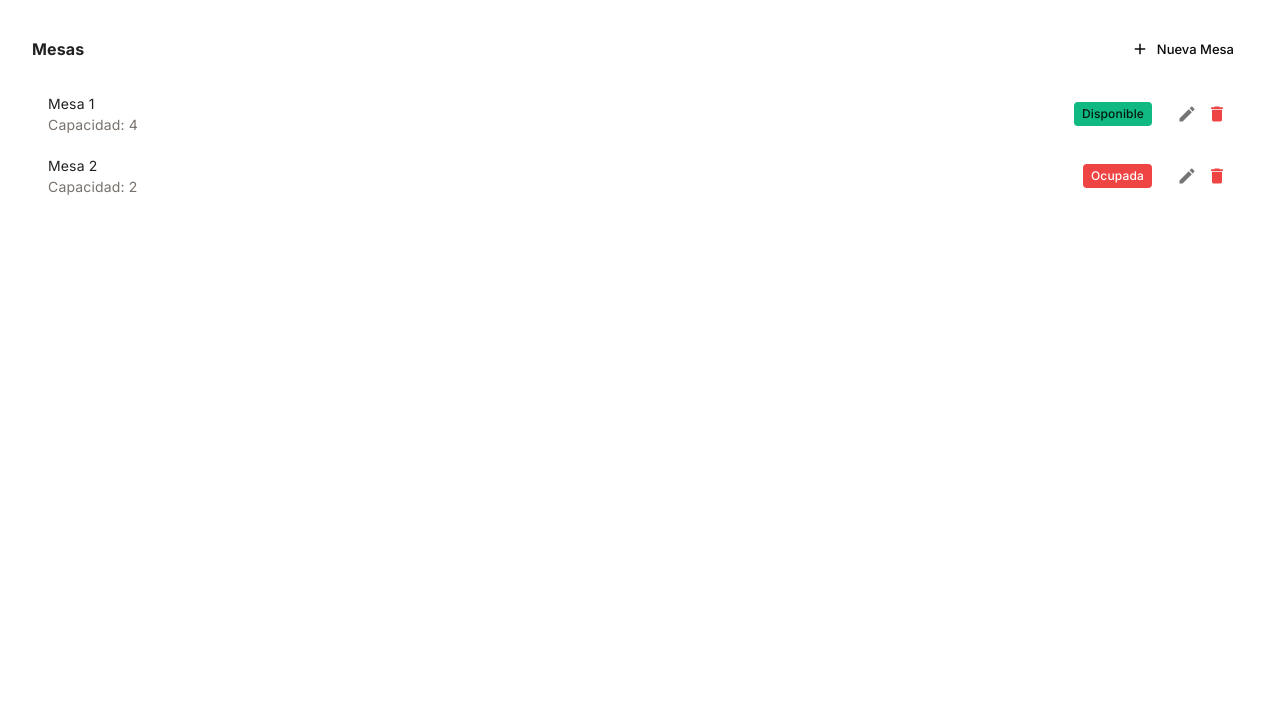
Test: TableList › shows delete confirmation when delete is clicked
Expected: the text "Mesa 1" is shown, 48,95 -> 95,112
Click the button named "eliminar mesa 1".
click(1217, 114)  # box 1202,99 -> 1232,129
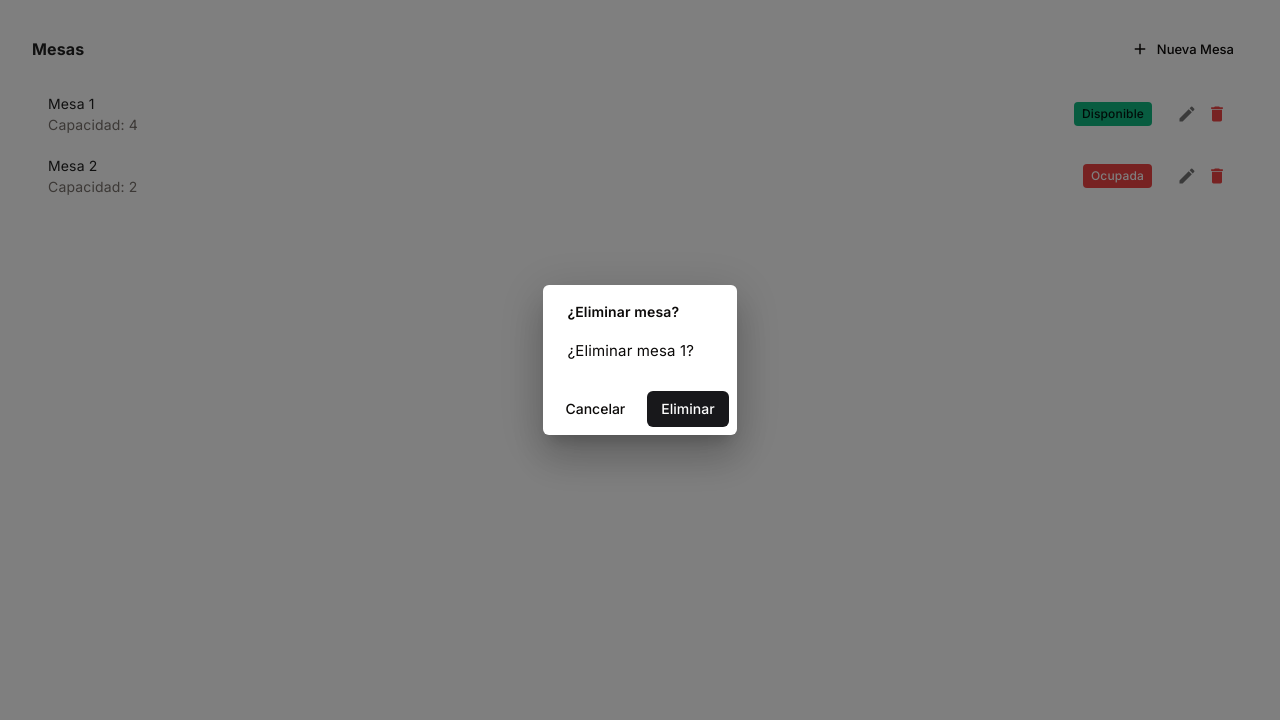
Result: the dialog is shown at 544,284 -> 737,435
Result: the heading "¿Eliminar mesa?" is shown at 568,302 -> 679,320
